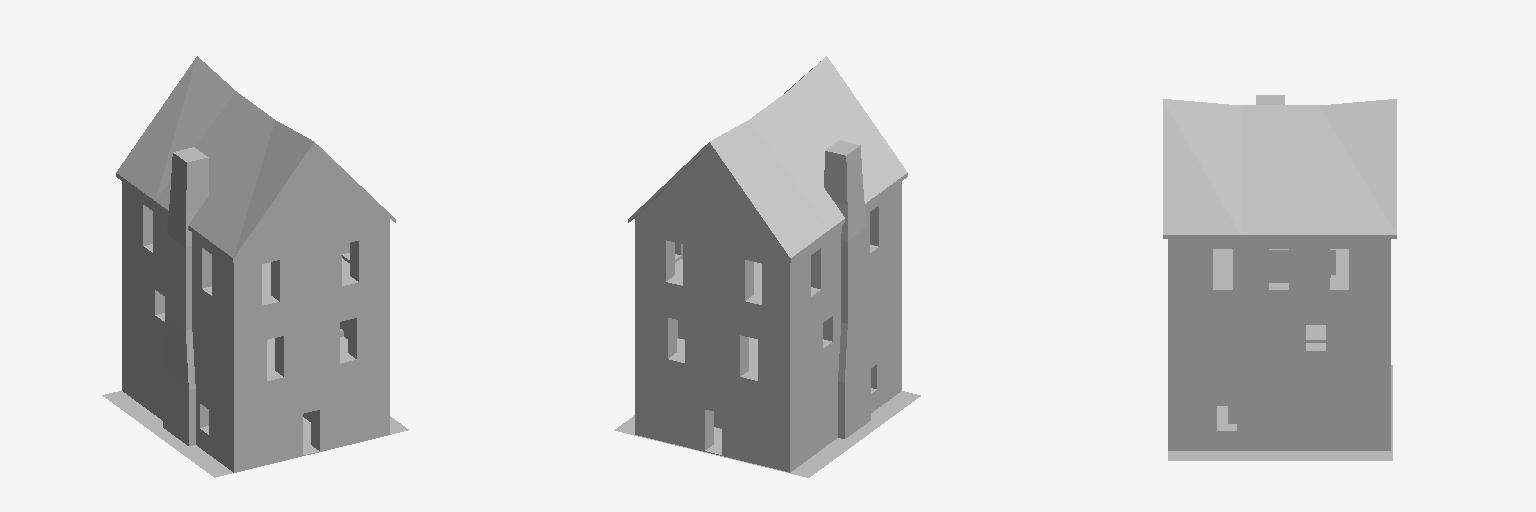
The model's file is KeepColl.obj.
3 renders of one model, left to right at view 1: azimuth 30°, elevation 25°; view 2: azimuth 150°, elevation 25°; view 3: azimuth 270°, elevation 25°, orthographic.
Visible parts, largest first — view 1: 11_-_Default; view 2: 11_-_Default; view 3: 11_-_Default.
Boxes of the visible parts, x1=… form: 11_-_Default: x1=102, y1=56, x2=408, y2=477; 11_-_Default: x1=614, y1=56, x2=920, y2=477; 11_-_Default: x1=1163, y1=95, x2=1396, y2=460.
Bounding box in the file's own units: 76 × 117 × 79.18.